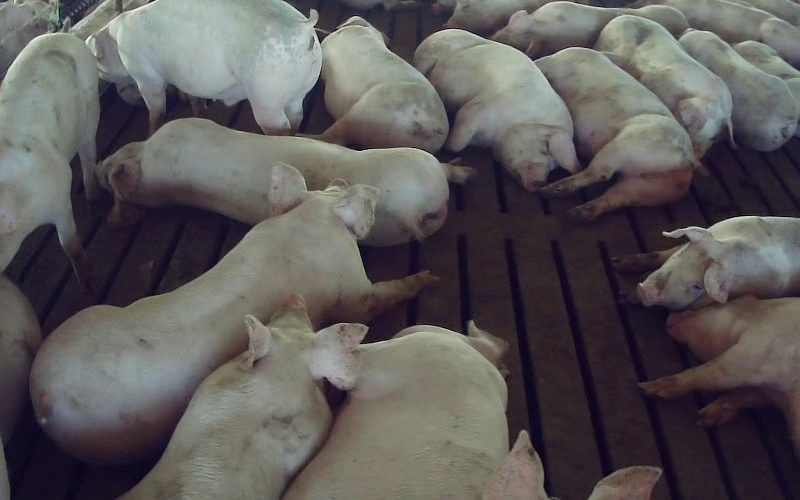pig: (30, 164, 436, 463), (122, 295, 366, 499), (284, 321, 508, 499), (87, 0, 321, 133), (536, 48, 696, 221), (413, 29, 578, 190), (641, 296, 799, 455), (0, 33, 99, 286), (595, 15, 733, 158), (316, 17, 448, 152), (614, 216, 799, 310), (679, 30, 796, 150), (633, 0, 799, 68), (491, 2, 687, 58)
